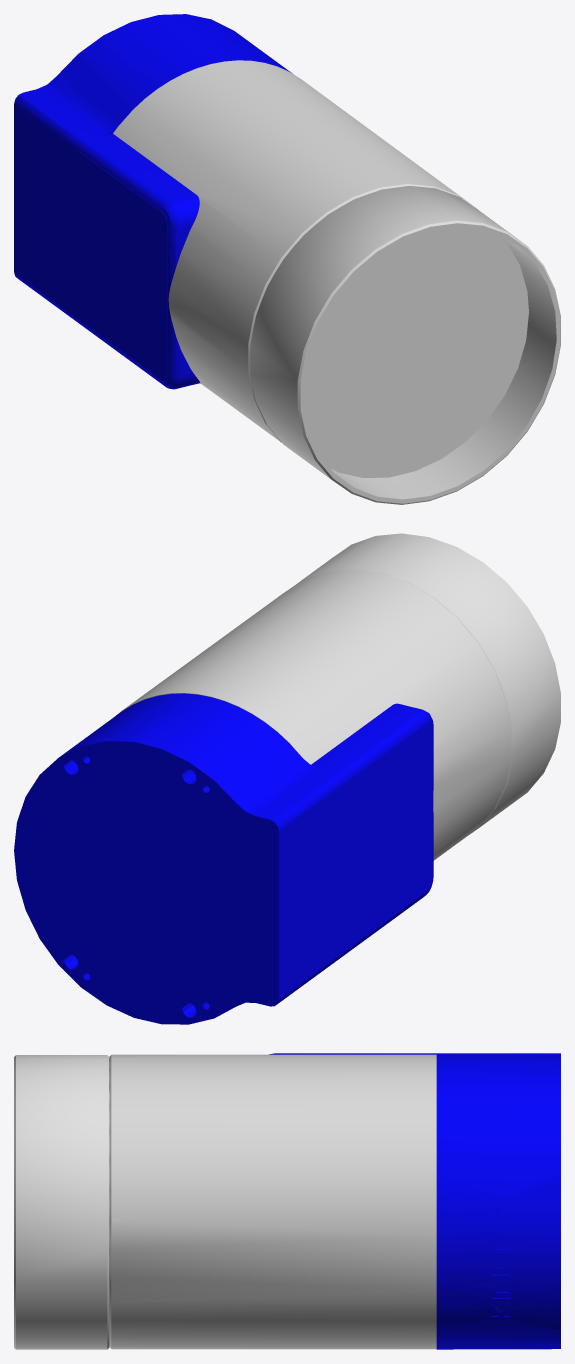
3 renders of one model, top to bottom at view 1: azimuth 30°, elevation 25°; view 2: azimuth 150°, elevation 25°; view 3: azimuth 270°, elevation 25°, orthographic. The views are drawn at different scales.
Visible parts, largest first — view 1: base_link; view 2: base_link; view 3: base_link.
Boxes of the visible parts, x1,y1,x2,y2 form: base_link: (14, 14, 560, 504); base_link: (14, 533, 560, 1024); base_link: (14, 1053, 560, 1349).
Bounding box in the file's own units: 0.0925 × 0.0922 × 0.1708.
